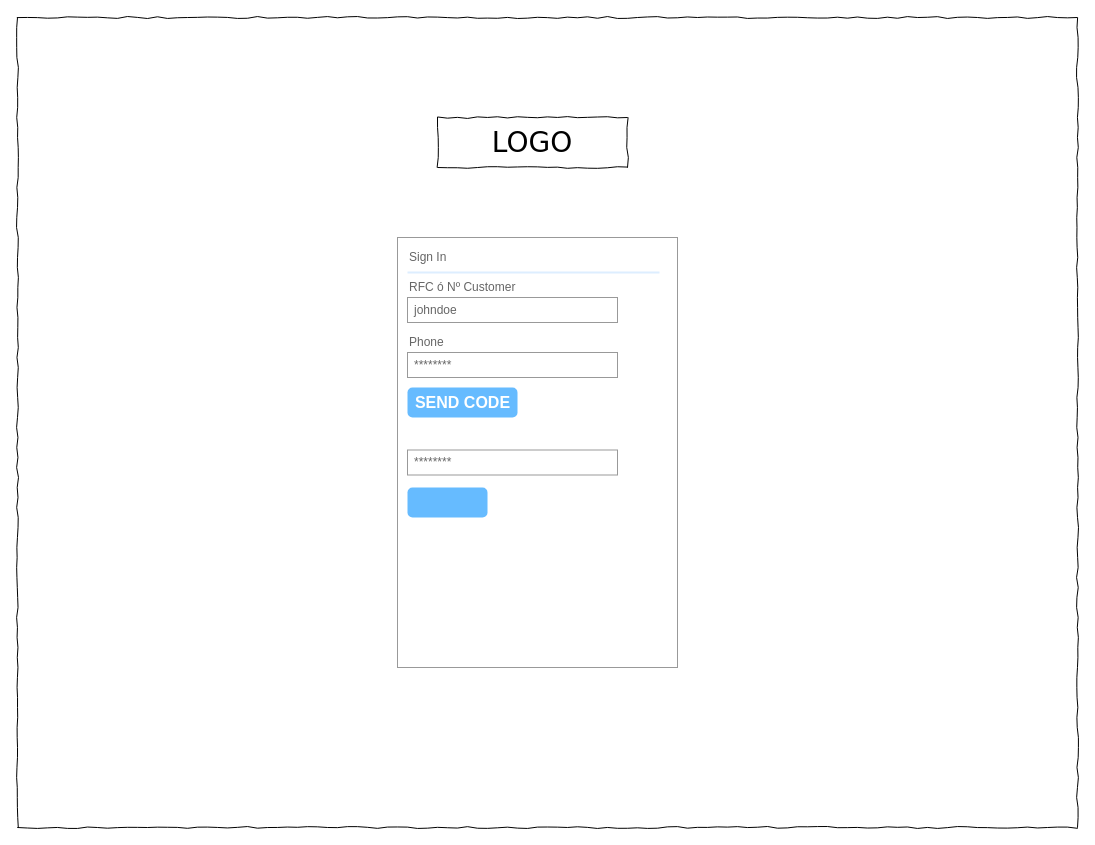
Image size: 1095x845. Some labels were removed from this diagram. The shapes that lost their labels are listed below. From the top down, each one's box as (x1, y1, x2, y2) in pixels, then its label:
(406, 429, 548, 450): Phone Code
(407, 487, 487, 517): LOGIN
